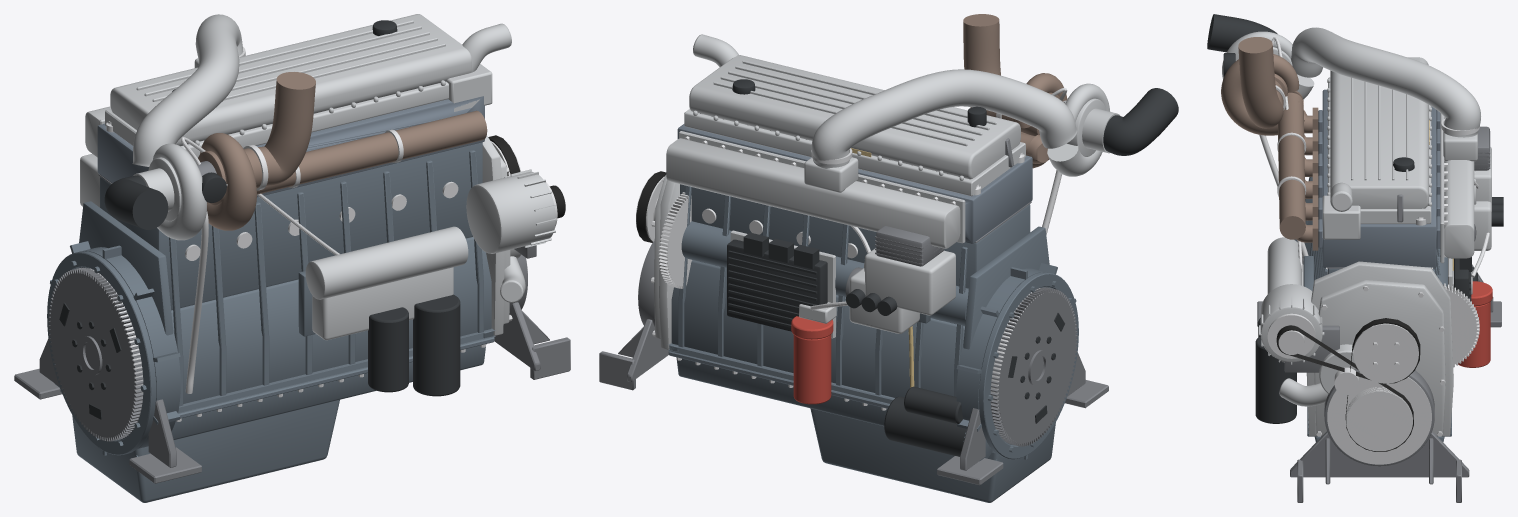
Rendered from qsm11.glb.
3 renders of one model, left to right at view 1: azimuth 30°, elevation 25°; view 2: azimuth 150°, elevation 25°; view 3: azimuth 270°, elevation 25°, orthographic. The views are drawn at different scales.
Parts seen in each view (by area): view 1: bloque, tapa_balancines, carter, carcasa_volante, volante, enfriador_aceite, turbo, filtros_aceite, conducto_aire, alternador, colector_escape, culata (+10 smaller); view 2: bloque, tapa_balancines, colector_admision, carcasa_volante, carter, conducto_aire, volante, ecm, compresor_aire, culata, turbo, motor_arranque (+10 smaller); view 3: tapa_balancines, carcasa_engranajes, amortiguador_polea, conducto_aire, culata, colector_escape, alternador, soporte_delantero, colector_admision, turbo, cubo_ventilador, codo_escape (+15 smaller).
Boxes of the visible parts, bbox=[...] form: bloque: bbox=[100, 142, 495, 413]; tapa_balancines: bbox=[105, 14, 471, 160]; carter: bbox=[72, 337, 494, 502]; carcasa_volante: bbox=[14, 201, 201, 483]; volante: bbox=[48, 267, 143, 441]; enfriador_aceite: bbox=[305, 226, 468, 340]; turbo: bbox=[133, 133, 268, 240]; filtros_aceite: bbox=[368, 294, 460, 396]; conducto_aire: bbox=[132, 14, 242, 166]; alternador: bbox=[466, 169, 565, 258]; colector_escape: bbox=[257, 110, 487, 194]; culata: bbox=[97, 96, 484, 197]; bloque: bbox=[668, 184, 1030, 403]; tapa_balancines: bbox=[684, 55, 1025, 196]; colector_admision: bbox=[666, 131, 965, 248]; carcasa_volante: bbox=[937, 226, 1108, 485]; carter: bbox=[668, 326, 1055, 502]; conducto_aire: bbox=[811, 69, 1077, 168]; volante: bbox=[990, 287, 1077, 446]; ecm: bbox=[727, 230, 835, 338]; compresor_aire: bbox=[865, 226, 955, 315]; culata: bbox=[677, 124, 1032, 243]; turbo: bbox=[996, 73, 1120, 176]; motor_arranque: bbox=[884, 386, 966, 456]; tapa_balancines: bbox=[1327, 57, 1431, 223]; carcasa_engranajes: bbox=[1306, 261, 1453, 436]; amortiguador_polea: bbox=[1324, 368, 1434, 466]; conducto_aire: bbox=[1291, 27, 1480, 137]; culata: bbox=[1318, 89, 1440, 268]; colector_escape: bbox=[1278, 91, 1318, 250]; alternador: bbox=[1259, 284, 1339, 372]; soporte_delantero: bbox=[1290, 431, 1469, 502]; colector_admision: bbox=[1440, 113, 1477, 263]; turbo: bbox=[1221, 31, 1314, 135]; cubo_ventilador: bbox=[1353, 323, 1418, 383]; codo_escape: bbox=[1238, 37, 1283, 128].
Size of the model in its own units: 1423 by 1204 by 860.
